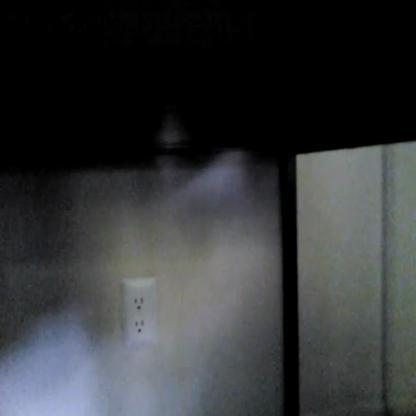OUTLET: (120, 276, 157, 348)
